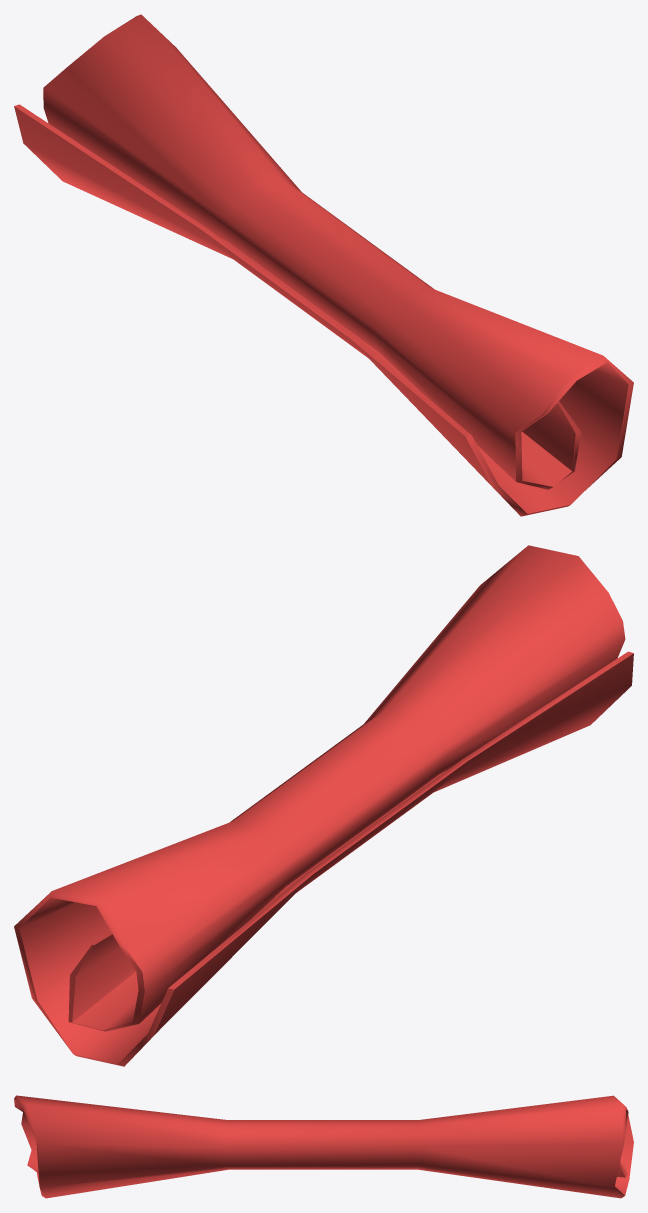
The model's file is KırmızıKağıt.fbx.
3 views of the same model, one above another, from view 1: azimuth 30°, elevation 25°; view 2: azimuth 150°, elevation 25°; view 3: azimuth 270°, elevation 25° (orthographic). The views are drawn at different scales.
Parts seen in each view (by area): view 1: Kağıt; view 2: Kağıt; view 3: Kağıt.
Part boxes in pixels (x1,y1,x2,y2): Kağıt: (14,14,633,516); Kağıt: (14,545,633,1066); Kağıt: (14,1095,633,1198).
Bounding box in the file's own units: 261 × 245 × 1366.
